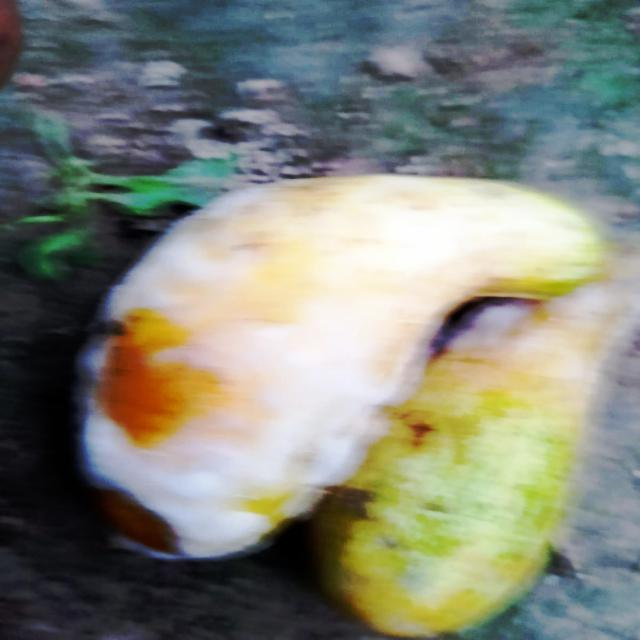Pythium-Fruit-Rot: (68, 175, 467, 561), (451, 254, 640, 392)
